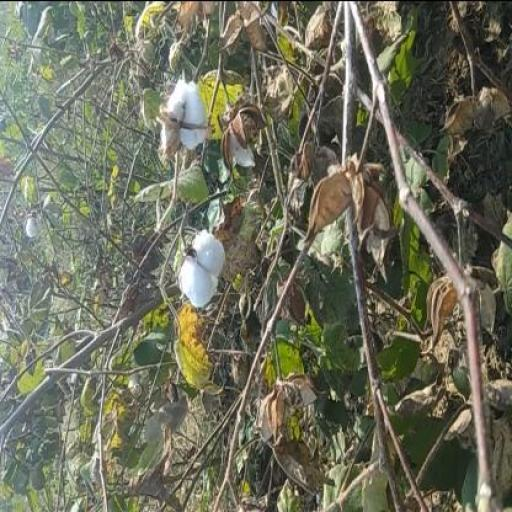cotton_ready: (143, 69, 232, 177), (168, 203, 232, 350)
